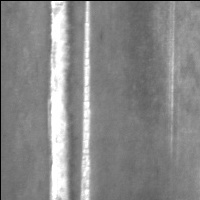scratches: (46, 1, 72, 200), (78, 1, 93, 200), (166, 1, 177, 161)
